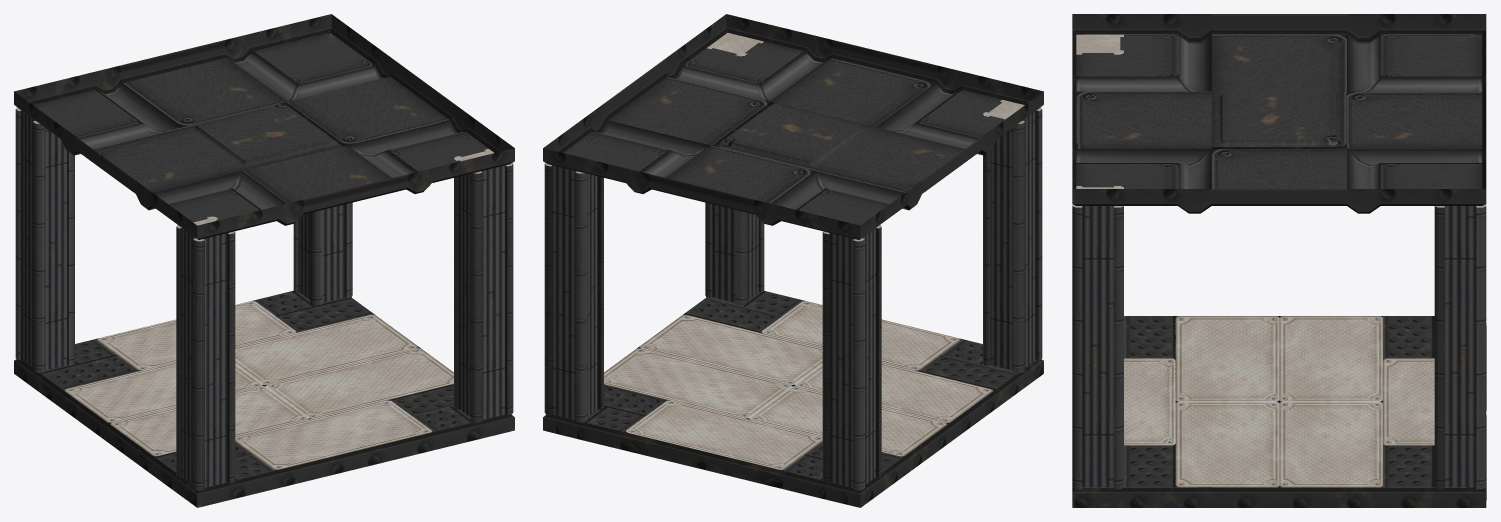
The model's file is Corridor_Crossroad_Broken.fbx.
3 views of the same model, side by side, from view 1: azimuth 30°, elevation 25°; view 2: azimuth 150°, elevation 25°; view 3: azimuth 270°, elevation 25° (orthographic). The views are drawn at different scales.
Visible parts, largest first — view 1: Corridor_Crossroad_Broken; view 2: Corridor_Crossroad_Broken; view 3: Corridor_Crossroad_Broken.
Boxes of the visible parts, bbox=[...] form: Corridor_Crossroad_Broken: bbox=[14, 14, 514, 507]; Corridor_Crossroad_Broken: bbox=[543, 14, 1043, 507]; Corridor_Crossroad_Broken: bbox=[1072, 14, 1486, 507].
Bounding box in the file's own units: 400 × 340 × 400.
